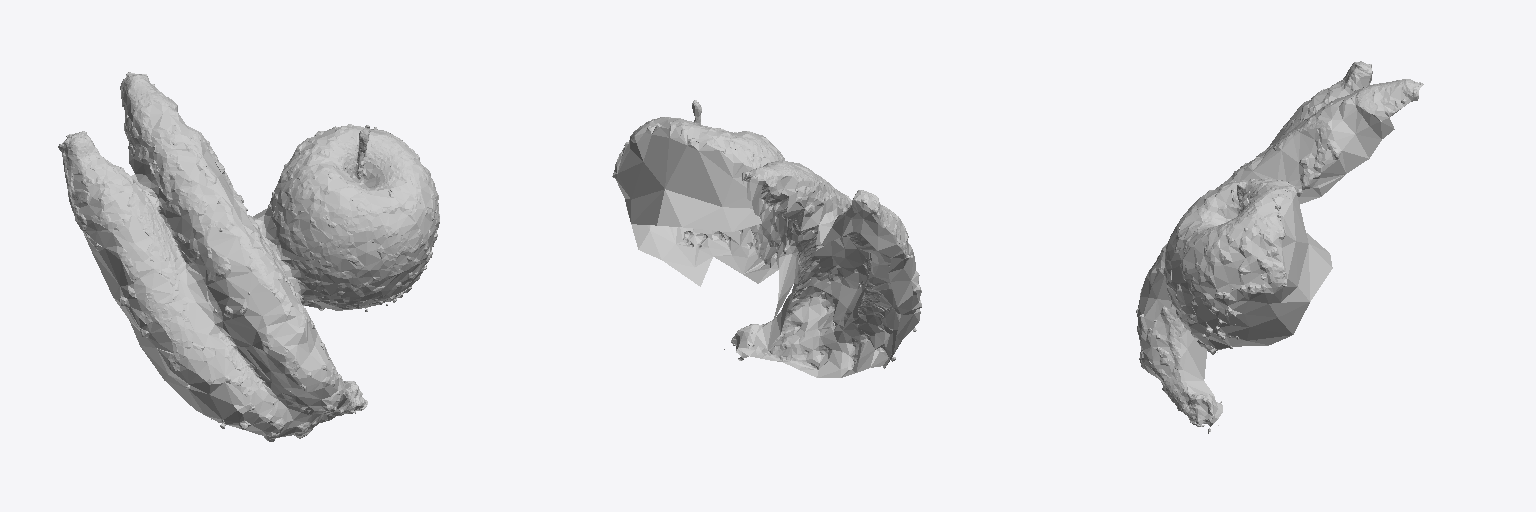
Rendered from foo.obj.
3 renders of one model, left to right at view 1: azimuth 30°, elevation 25°; view 2: azimuth 150°, elevation 25°; view 3: azimuth 270°, elevation 25°, orthographic.
Size of the model in its own units: 0.8097 by 0.7238 by 0.6371.